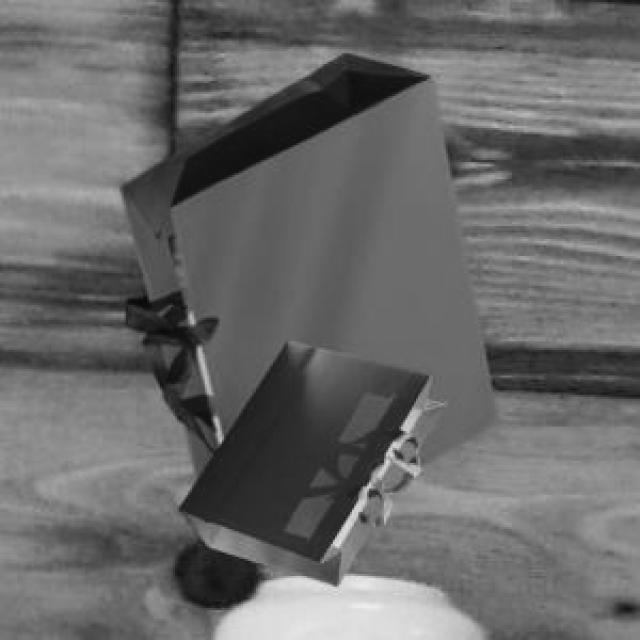paper: (117, 49, 495, 478), (175, 337, 442, 582)
